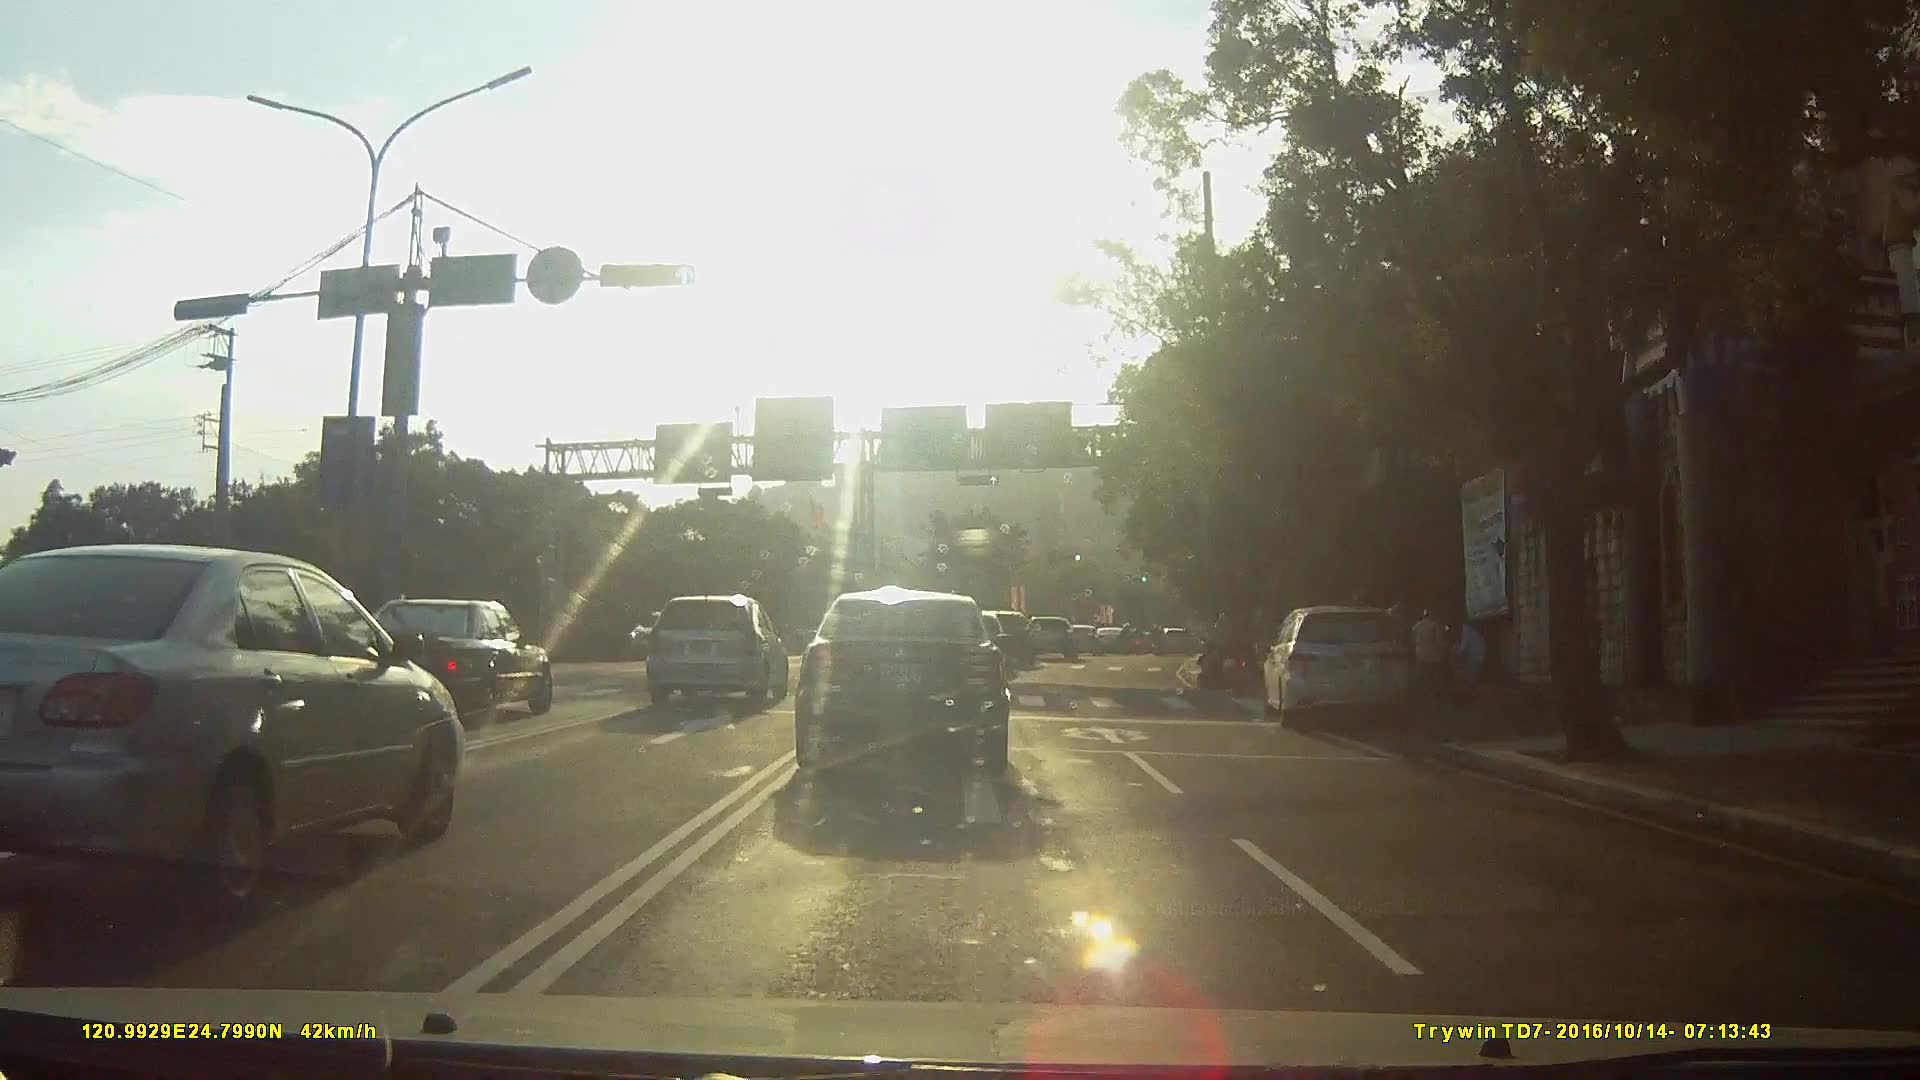pedestrian: (1414, 607, 1457, 725), (1459, 620, 1496, 689)
rider: (1200, 606, 1258, 690)
vehicle: (0, 546, 469, 917), (792, 591, 1032, 798), (346, 596, 563, 725), (1259, 600, 1435, 735), (647, 594, 794, 715), (624, 607, 691, 662), (983, 609, 1045, 667), (1027, 615, 1085, 661), (1067, 623, 1106, 655), (1099, 625, 1132, 653)
